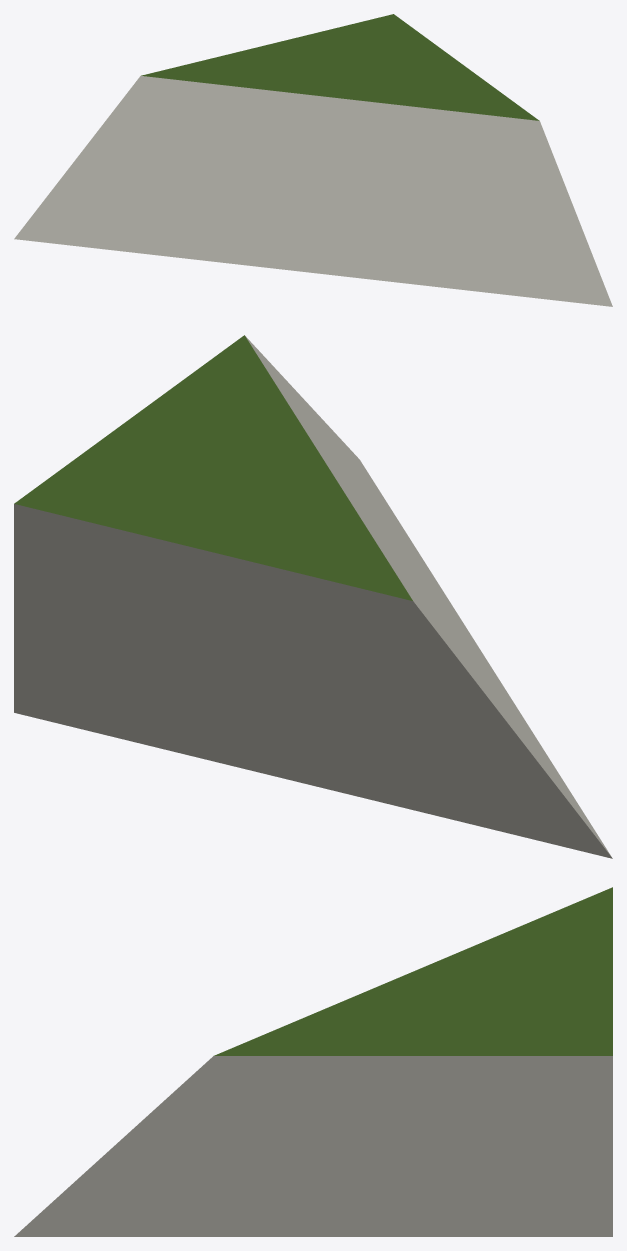
File: Terrain_Tile_Grass_Rock_Ledge_Corner_02.fbx
3 views of the same model, one above another, from view 1: azimuth 30°, elevation 25°; view 2: azimuth 150°, elevation 25°; view 3: azimuth 270°, elevation 25° (orthographic). The views are drawn at different scales.
Visible parts, largest first — view 1: Terrain_Tile_Grass_Rock_Ledge_Corner_02; view 2: Terrain_Tile_Grass_Rock_Ledge_Corner_02; view 3: Terrain_Tile_Grass_Rock_Ledge_Corner_02.
Boxes of the visible parts, x1,y1,x2,y2 form: Terrain_Tile_Grass_Rock_Ledge_Corner_02: [14, 14, 612, 306]; Terrain_Tile_Grass_Rock_Ledge_Corner_02: [14, 335, 612, 858]; Terrain_Tile_Grass_Rock_Ledge_Corner_02: [14, 887, 612, 1236].
Bounding box in the file's own units: 47.24 × 15.75 × 47.24.
